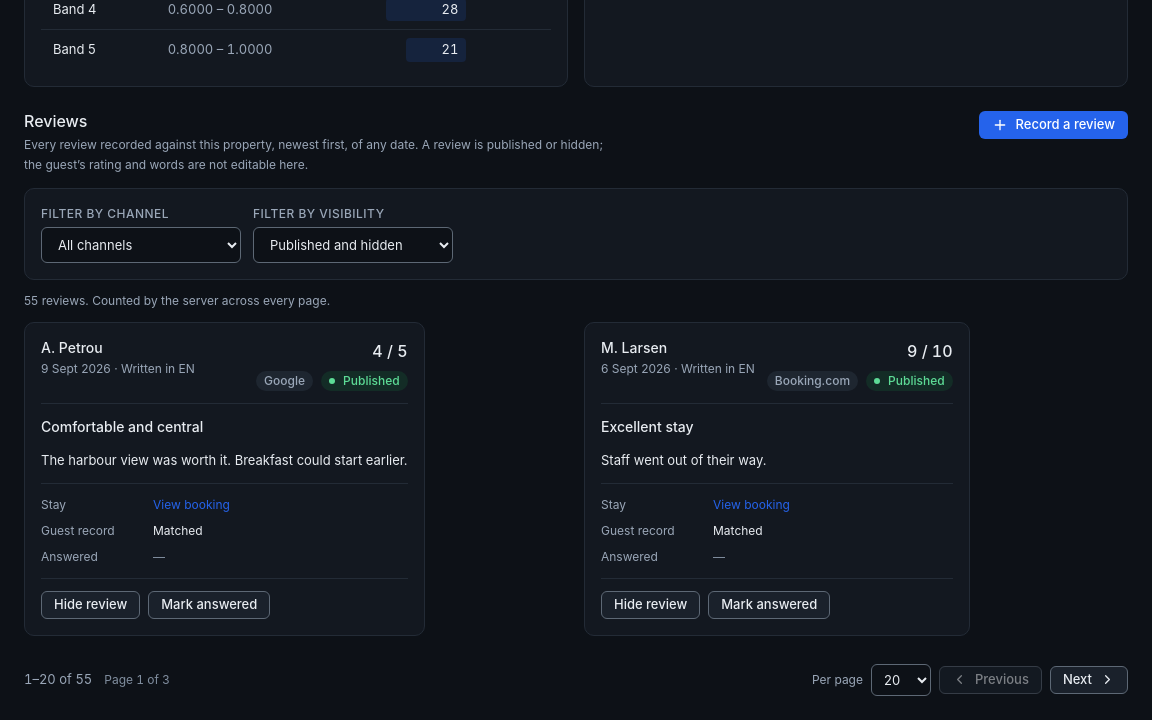
Test: moderation › does not flip the badge until the server has said so
(page scrolled)
expect the text "Comfortable and central" is shown: met, box [41,418,203,435]
Click the button "Hide review" below "Comfortable and central": (91,605) [41,591,140,619]
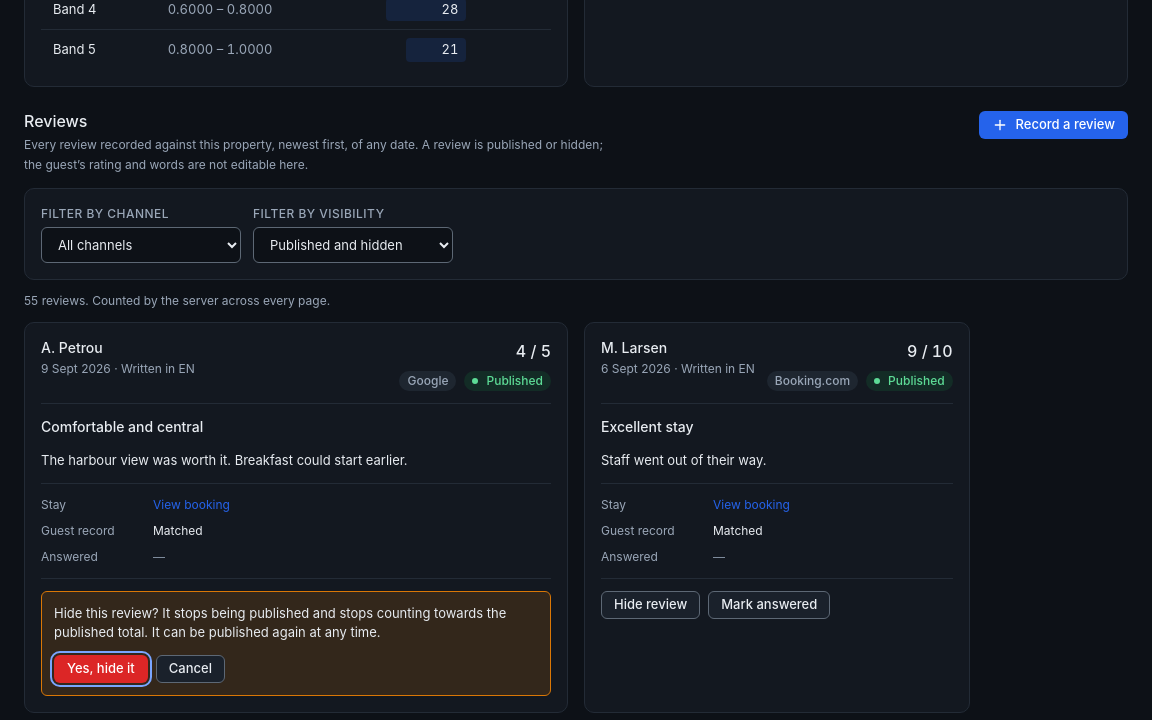
Click the button "Yes, hide it": (101,669) [54,655,148,683]
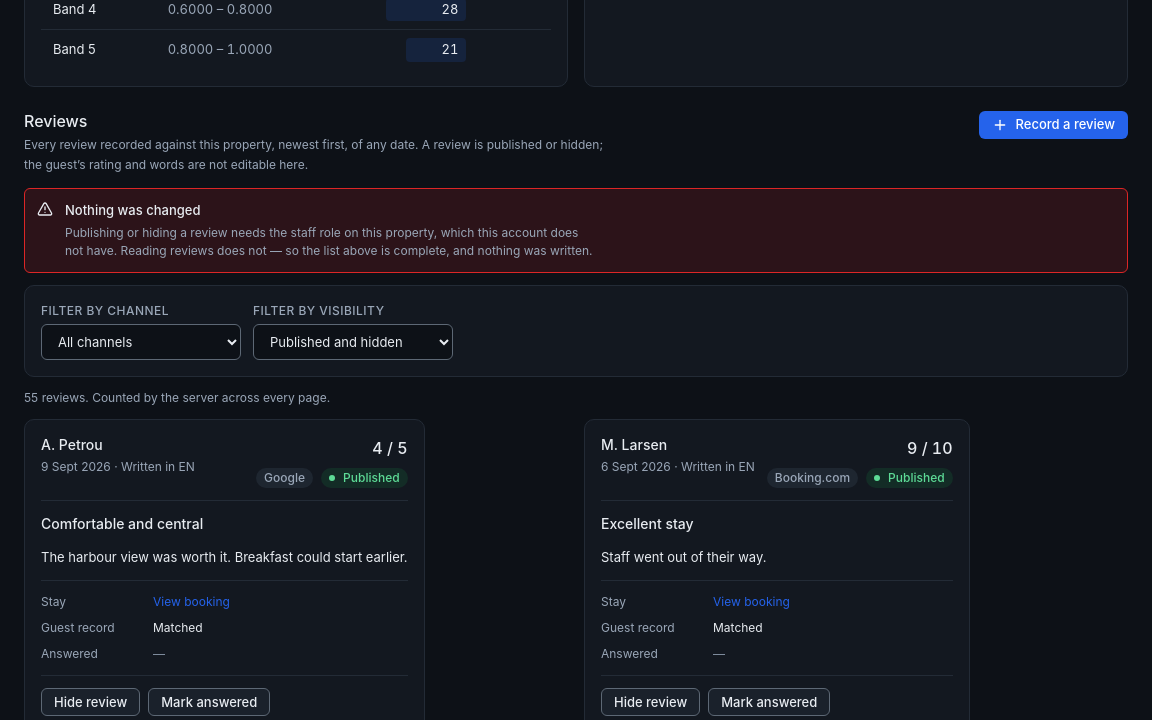
expect the text "Published" is shown: met, box [321,468,408,488]
expect the text "Nothing was changed" is shown: met, box [65,202,200,218]
expect the text "needs the staff role" is shown: met, box [65,225,592,258]
